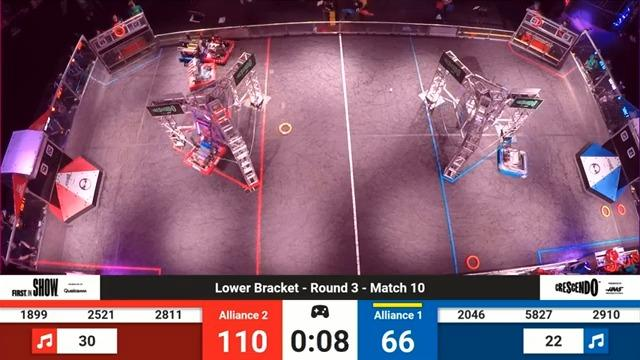robot: (180, 113, 230, 179), (497, 144, 536, 183), (199, 35, 239, 67), (186, 57, 221, 92), (178, 31, 208, 63)
